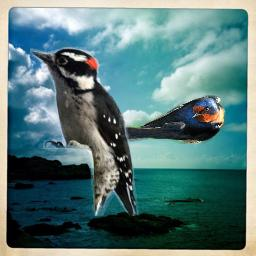Swallow: (102, 95, 226, 144)
Woodpecker: (30, 47, 139, 216)
